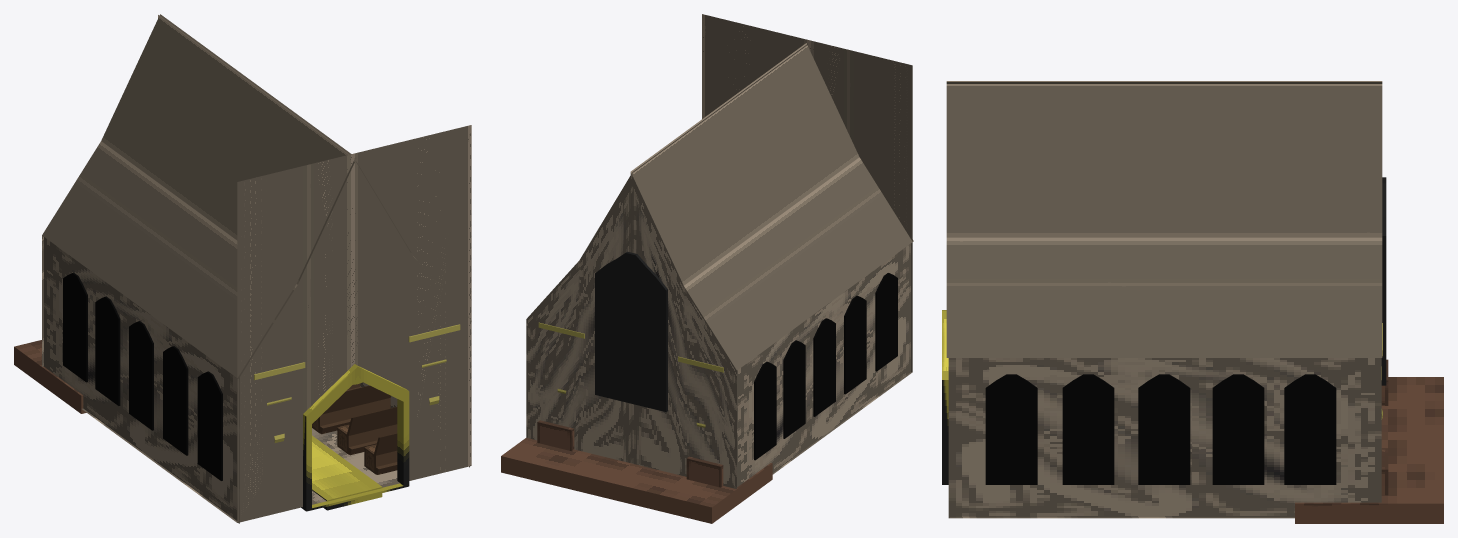
Rendered from church.glb.
3 views of the same model, side by side, from view 1: azimuth 30°, elevation 25°; view 2: azimuth 150°, elevation 25°; view 3: azimuth 270°, elevation 25° (orthographic). The views are drawn at different scales.
Parts seen in each view (by area): view 1: Church_floor, Church_wall_roof_glass, Church_walls, Door, rug, window.001, window.004, window.003, window, window.002, stair.002, stair.003 (+3 smaller); view 2: Church_wall_roof_glass, Church_floor, Church_walls, big_window, stage, window.002, window.004, window, window.003, window.001, table_stage, flag; view 3: Church_wall_roof_glass, Church_walls, stage, window.001, window, window.002, window.004, window.003, Door, big_window, Church_floor, table_stage.
Boxes of the visible parts, x1,y1,x2,y2 form: Church_floor: (82,125,471,522); Church_wall_roof_glass: (42,14,471,378); Church_walls: (44,237,469,523); Door: (301,364,409,511); rug: (312,435,382,510); window.001: (95,296,120,405); window.004: (197,371,222,480); window.003: (163,346,188,455); window: (129,321,153,430); window.002: (63,272,87,382); stair.002: (312,385,390,434); stair.003: (337,407,397,455); Church_wall_roof_glass: (526,43,913,488); Church_floor: (702,14,912,474); Church_walls: (737,243,910,487); big_window: (595,251,667,412); stage: (501,437,772,523); window.002: (754,361,776,460); window.004: (875,273,897,371); window: (813,318,835,416); window.003: (844,295,866,394); window.001: (783,340,805,438); table_stage: (537,420,723,487); flag: (538,322,723,427); Church_wall_roof_glass: (946,81,1382,357); Church_walls: (948,358,1381,518); stage: (1295,377,1443,523); window.001: (1212,374,1264,484); window: (1138,374,1190,484); window.002: (1284,374,1336,484); window.004: (985,374,1037,484); window.003: (1062,374,1114,484); Door: (942,310,948,484); big_window: (1381,177,1386,385); Church_floor: (949,517,1294,518); table_stage: (1381,359,1388,495).
Size of the model in its own units: 11.57 by 16.51 by 19.36.
12 materials, 12 textured.
